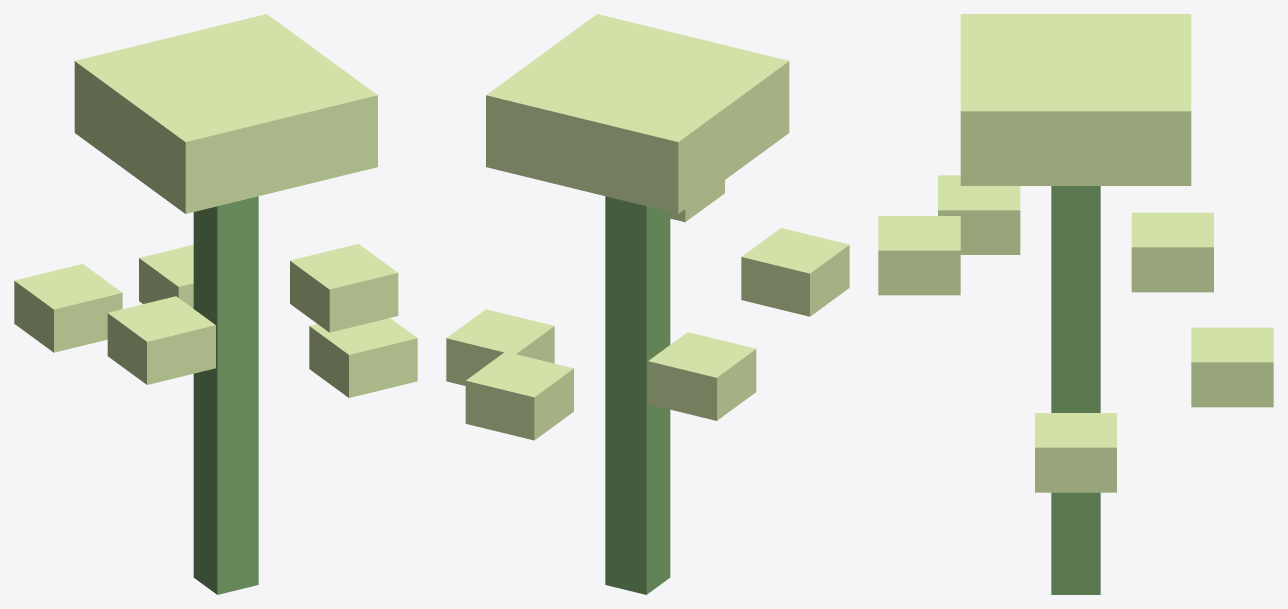
The model's file is Prop_DS_Herb_ParityPetal_S3_V2.glb.
3 views of the same model, side by side, from view 1: azimuth 30°, elevation 25°; view 2: azimuth 150°, elevation 25°; view 3: azimuth 270°, elevation 25° (orthographic). The views are drawn at different scales.
Visible parts, largest first — view 1: Prop_DS_Herb_ParityPetal_S3_V2; view 2: Prop_DS_Herb_ParityPetal_S3_V2; view 3: Prop_DS_Herb_ParityPetal_S3_V2.
Part boxes in pixels (box(x1,y1,x2,y2)): Prop_DS_Herb_ParityPetal_S3_V2: box(14, 14, 417, 594); Prop_DS_Herb_ParityPetal_S3_V2: box(446, 14, 849, 594); Prop_DS_Herb_ParityPetal_S3_V2: box(878, 14, 1273, 594).
Bounding box in the file's own units: 0.4618 × 0.7 × 0.4804.
